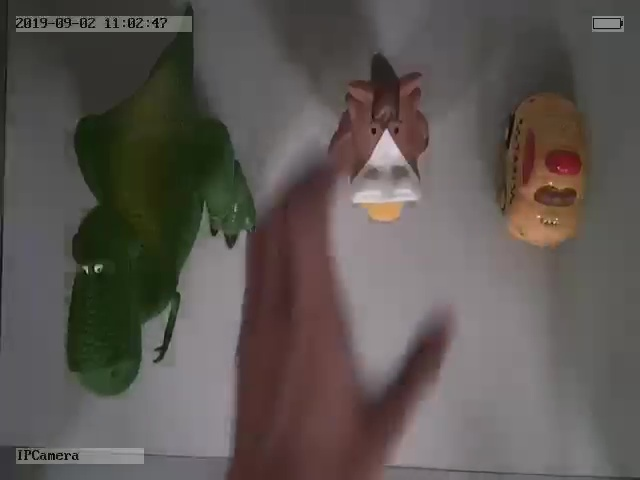car: (500, 89, 590, 249)
horse: (328, 55, 432, 223)
rex: (64, 34, 255, 396)
